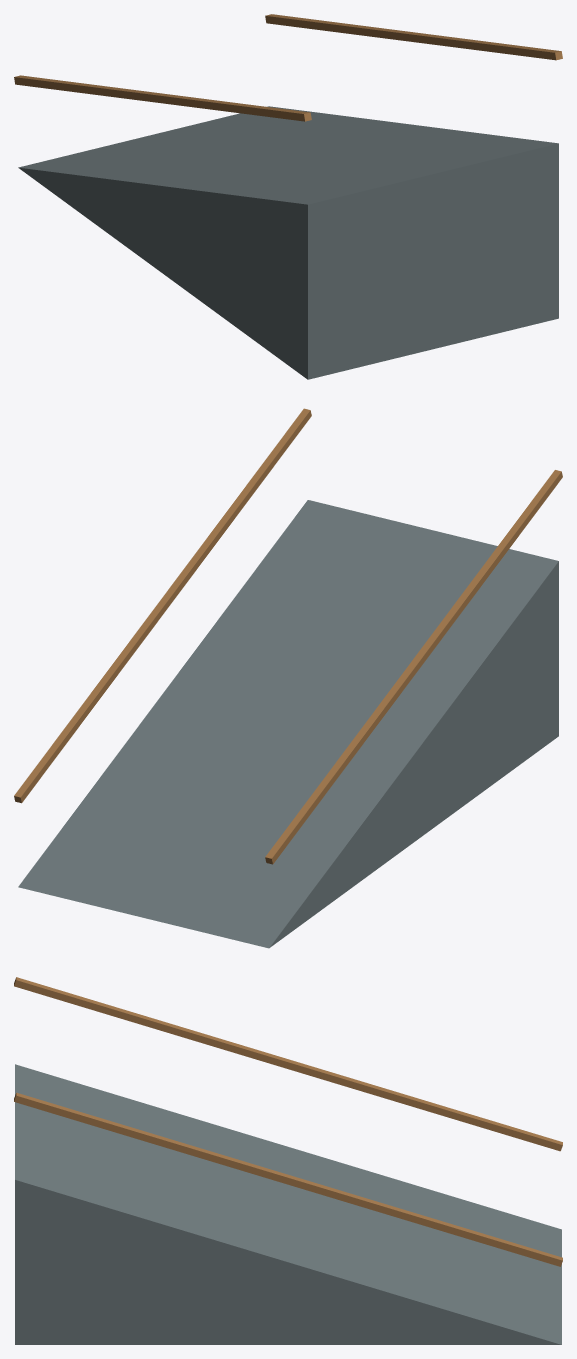
File: ramp.lod1.glb
3 renders of one model, top to bottom at view 1: azimuth 30°, elevation 25°; view 2: azimuth 150°, elevation 25°; view 3: azimuth 270°, elevation 25°, orthographic. The views are drawn at different scales.
Visible parts, largest first — view 1: structure; view 2: structure; view 3: structure.
Boxes of the visible parts, x1,y1,x2,y2 form: structure: (14, 14, 562, 379); structure: (14, 408, 562, 948); structure: (14, 977, 562, 1344).
Size of the model in its own units: 3.08 by 3.04 by 6.03.
